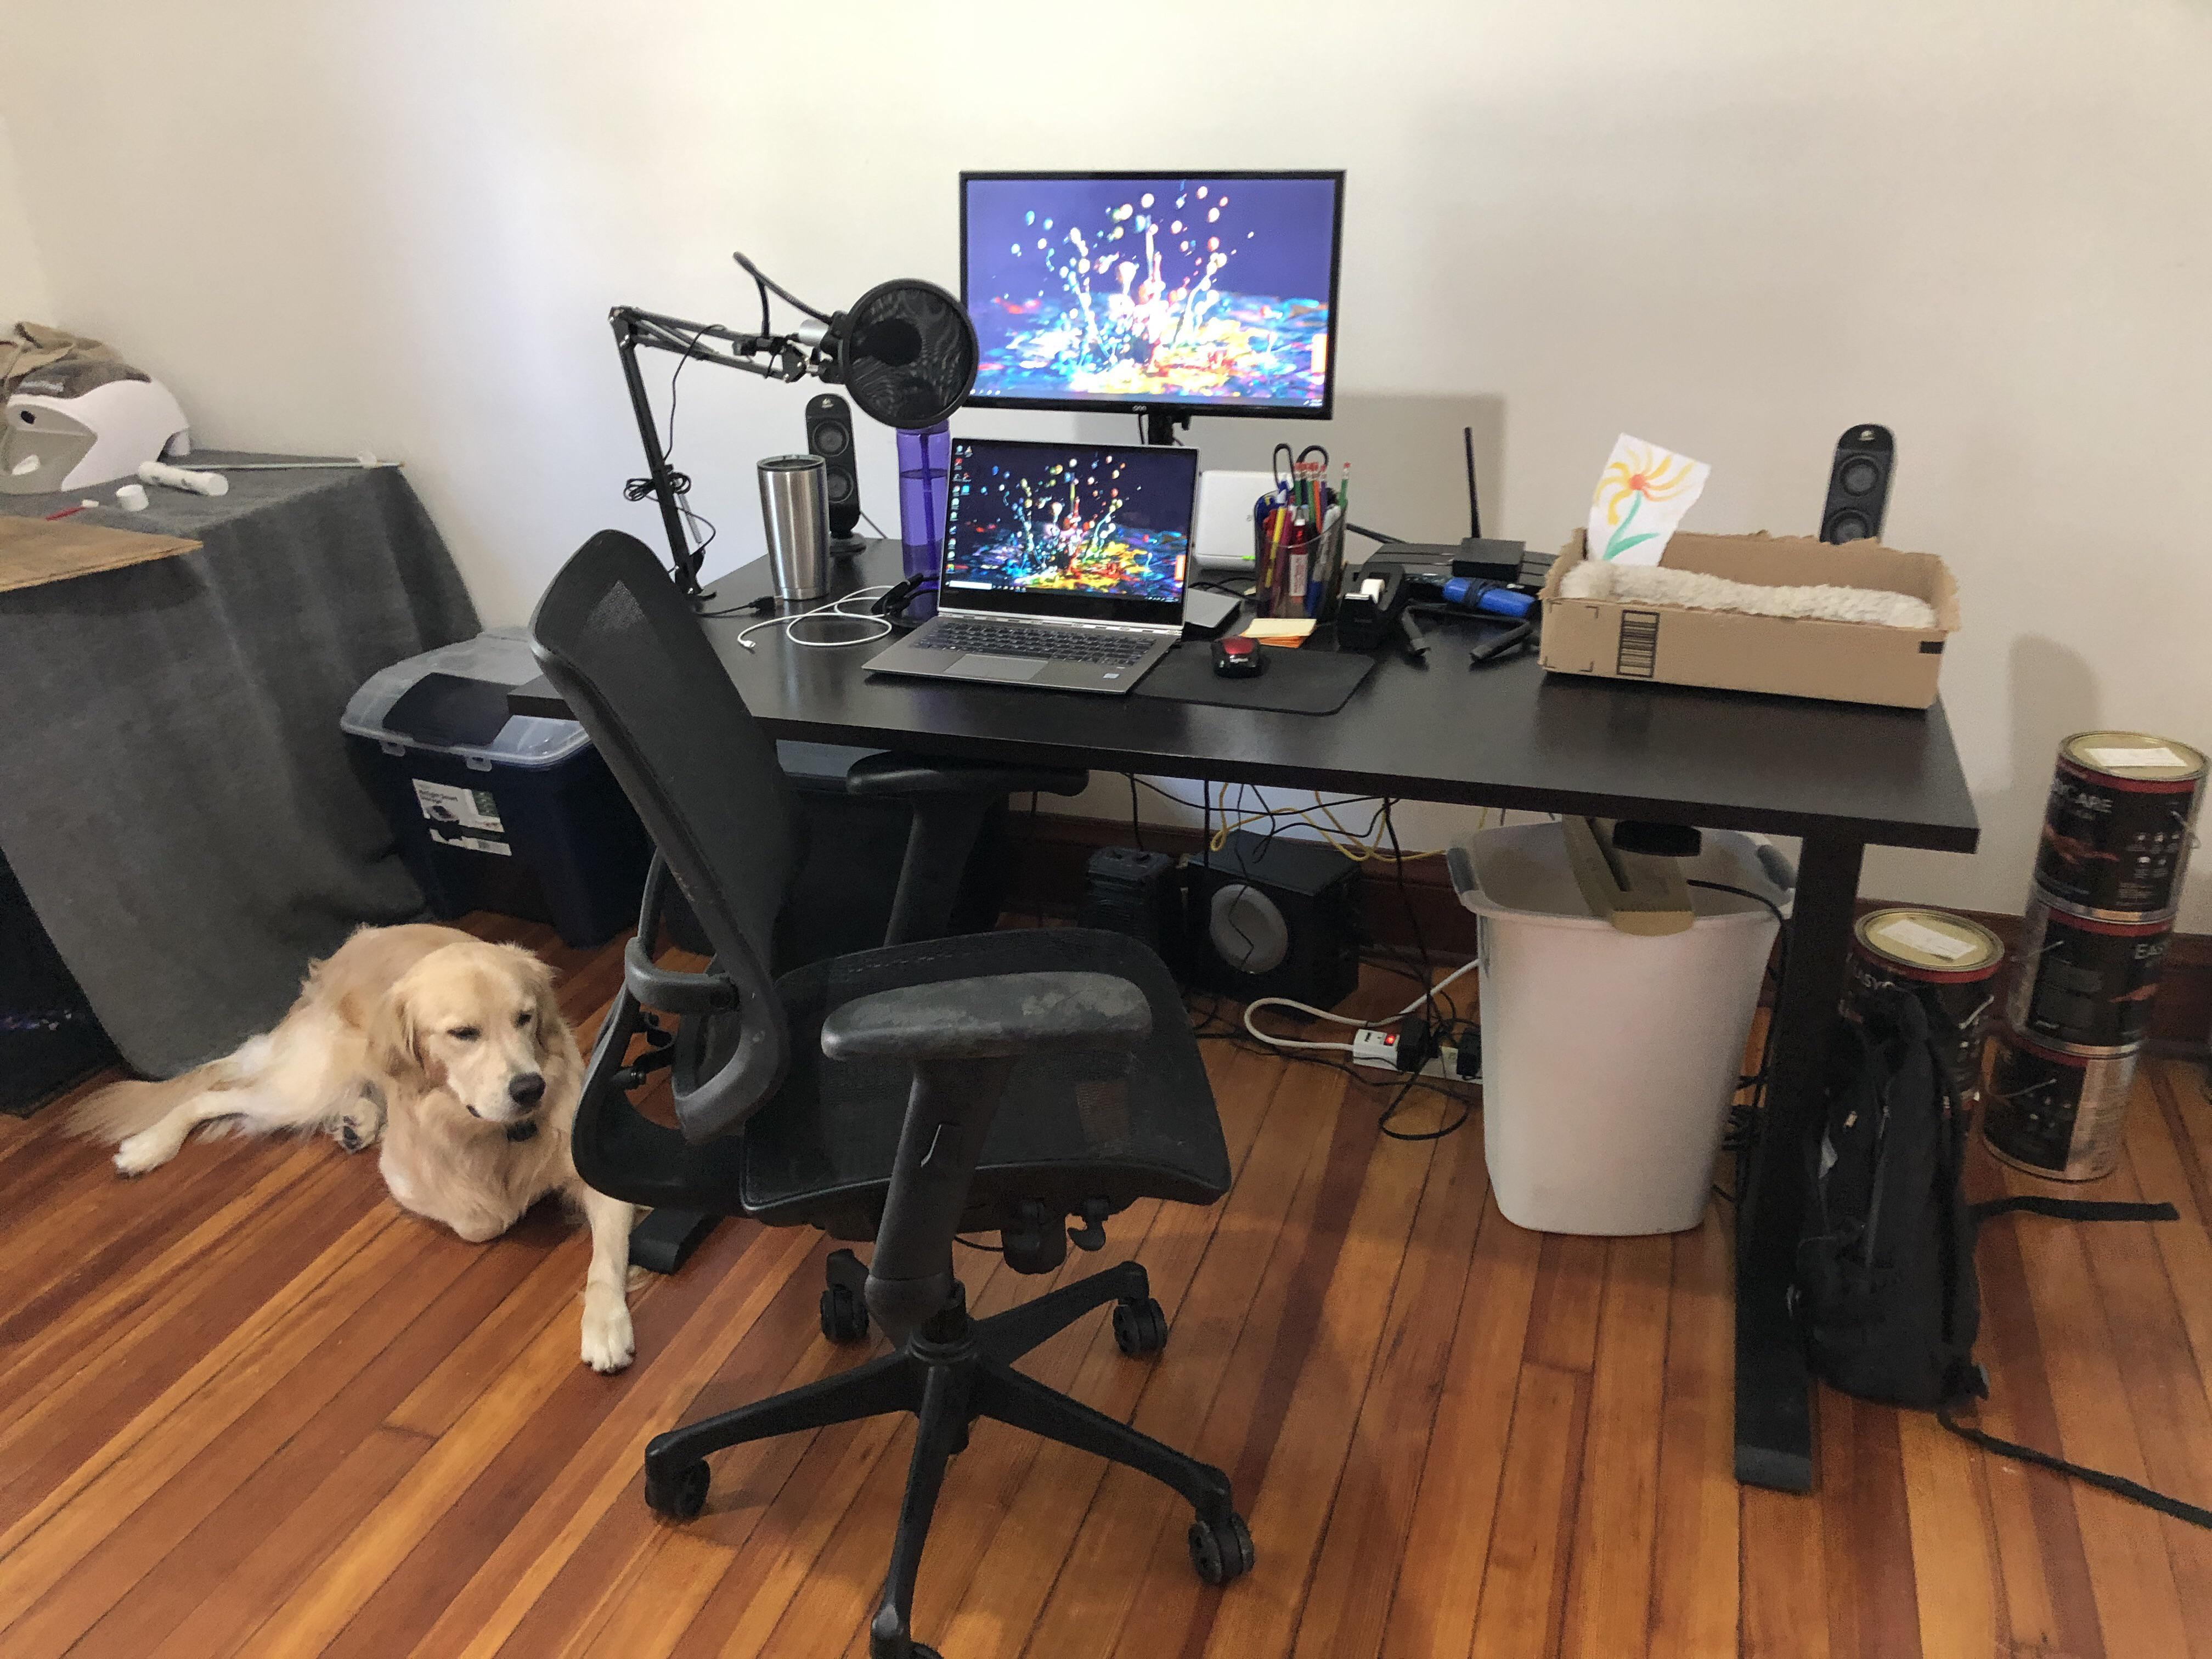Chair (Generic): (498, 525, 1278, 1659)
Cup: (754, 450, 841, 617)
Desk (Generic): (611, 525, 1980, 1499)
External Microphone (with Boom Arm): (604, 253, 979, 598)
External Speakers (Generic): (798, 389, 874, 558), (1813, 425, 1898, 545)
Laptop (Windows): (862, 439, 1205, 694)
Monitor (Landscape): (953, 164, 1338, 446)
Mouse (Generic): (1205, 631, 1268, 676)
Mousepad (Generic): (1134, 640, 1379, 714)
Power Strip: (1341, 1026, 1489, 1082)
Router: (1369, 427, 1583, 587)
Water Bottle: (887, 410, 960, 587)
